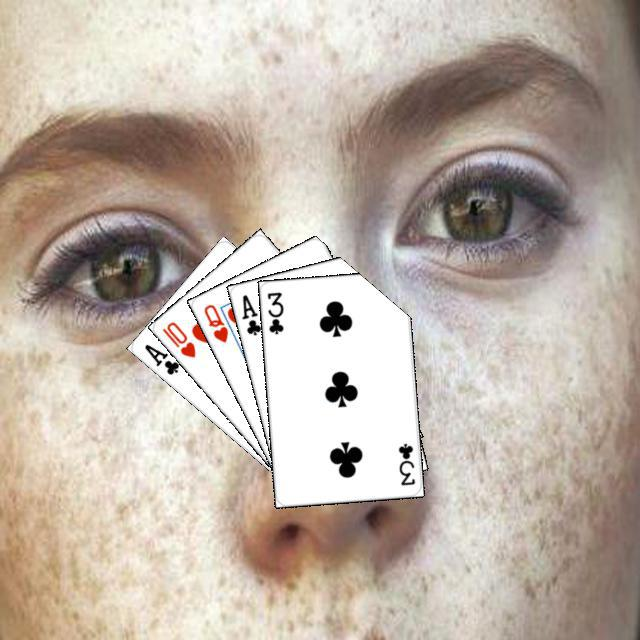10h: (157, 317, 197, 359)
3c: (393, 438, 417, 487), (262, 287, 285, 336)
Ac: (139, 339, 181, 377), (237, 289, 263, 337)
Qh: (199, 299, 230, 344)
